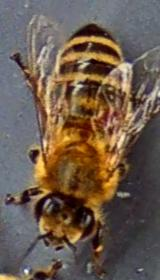varroa_mite: (88, 102, 121, 133)
